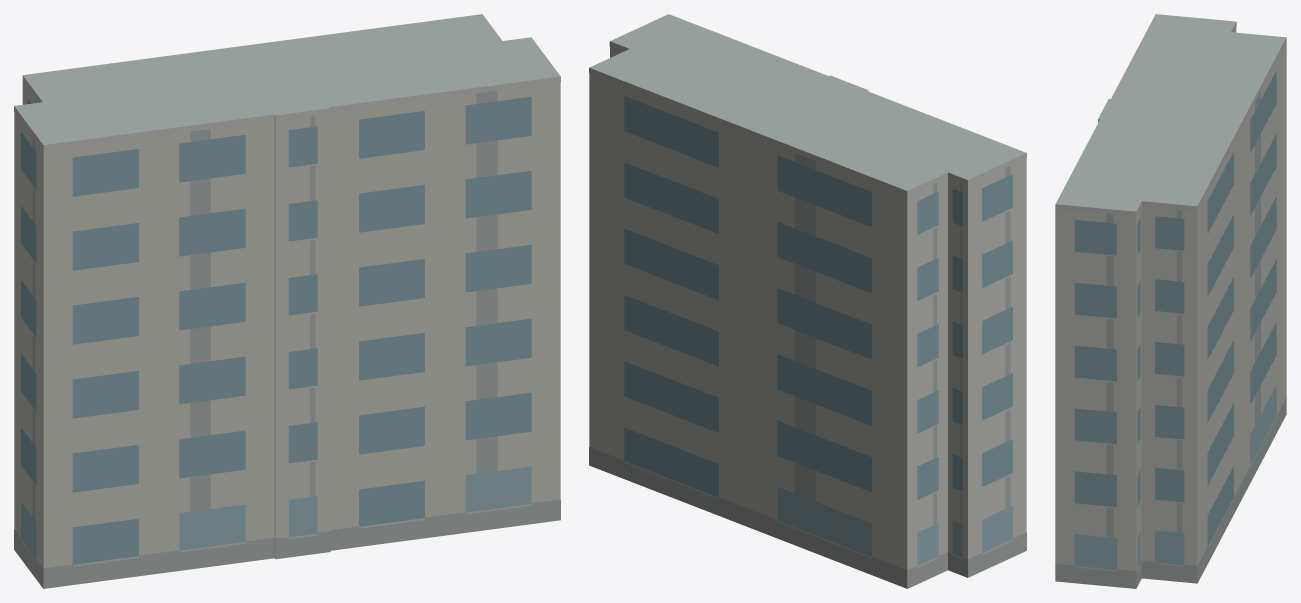
File: survey-upis-32553945.glb
3 renders of one model, left to right at view 1: azimuth 30°, elevation 25°; view 2: azimuth 150°, elevation 25°; view 3: azimuth 270°, elevation 25°, orthographic. The views are drawn at different scales.
Parts seen in each view (by area): view 1: survey-upis-32553945.tmp; view 2: survey-upis-32553945.tmp; view 3: survey-upis-32553945.tmp.
Part boxes in pixels (x1=…): survey-upis-32553945.tmp: x1=14, y1=14, x2=560, y2=588; survey-upis-32553945.tmp: x1=589, y1=14, x2=1026, y2=588; survey-upis-32553945.tmp: x1=1055, y1=14, x2=1286, y2=588.
Bounding box in the file's own units: 20.58 × 18.3 × 10.17.
